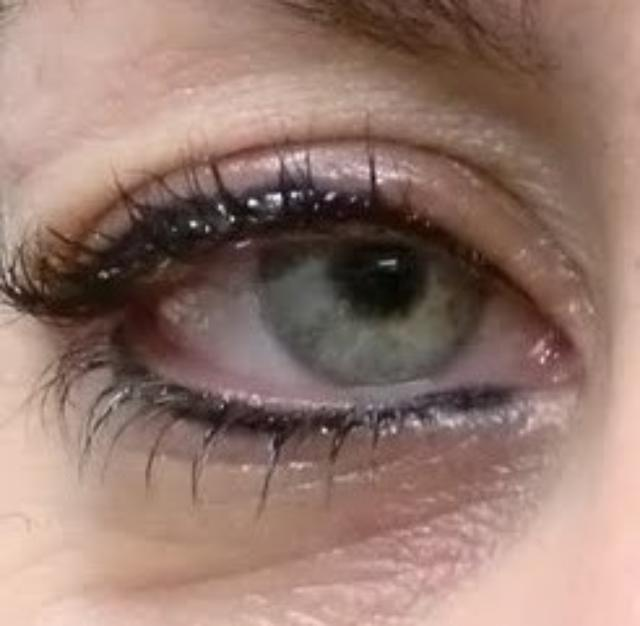eye: (260, 210, 462, 388)
